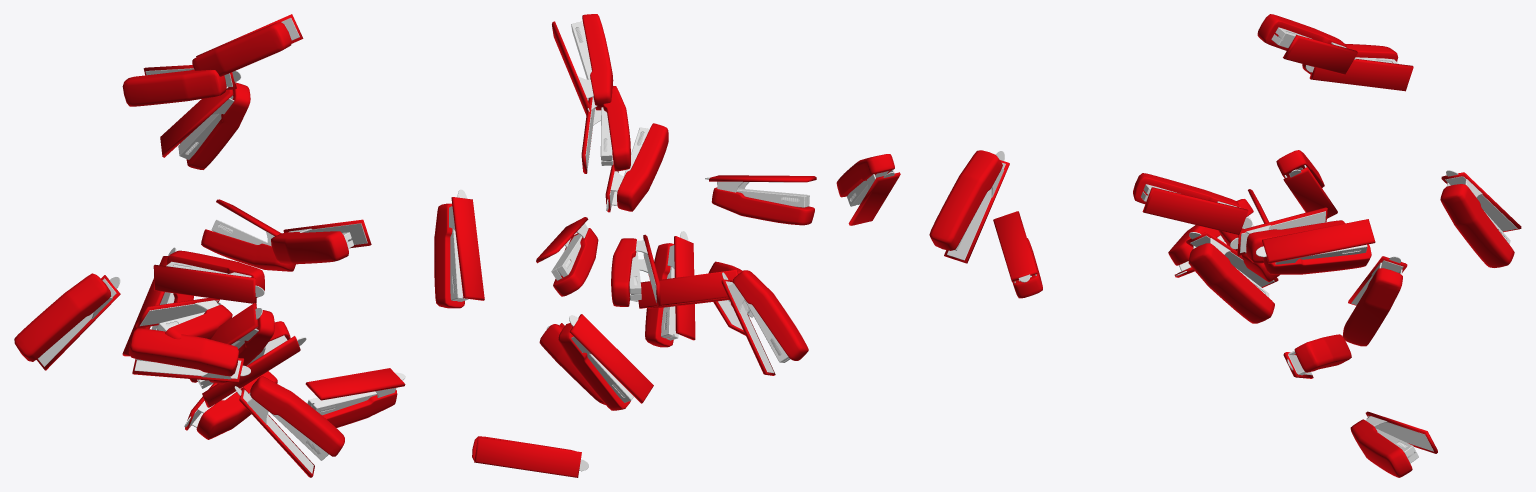
Rendered from staplers2.glb.
The picture shows the model from 3 angles, left to right: view 1: azimuth 30°, elevation 25°; view 2: azimuth 150°, elevation 25°; view 3: azimuth 270°, elevation 25°; orthographic projection. The views are drawn at different scales.
Visible parts, largest first — view 1: 立方体.386, 立方体.001, 立方体.177, 立方体.247, 立方体.494, 立方体.073, 立方体.107, 立方体.282, 立方体.457, 立方体.317, 立方体.352, 立方体.212 (+3 smaller); view 2: 立方体.494, 立方体.422, 立方体.177, 立方体.073, 立方体.457, 立方体.212, 立方体.036, 立方体.282, 立方体.001, 立方体.107, 立方体.317, 立方体.247 (+3 smaller); view 3: 立方体.001, 立方体.317, 立方体.494, 立方体.212, 立方体.282, 立方体.036, 立方体.457, 立方体.422, 立方体.107, 立方体.073, 立方体.247, 立方体.177 (+3 smaller).
Boxes of the visible parts, x1,y1,x2,y2 form: 立方体.386: (129, 328, 250, 382); 立方体.001: (234, 376, 344, 477); 立方体.177: (14, 273, 120, 370); 立方体.247: (153, 250, 264, 303); 立方体.494: (160, 81, 250, 169); 立方体.073: (305, 368, 405, 427); 立方体.107: (122, 65, 240, 106); 立方体.282: (271, 219, 371, 264); 立方体.457: (192, 14, 303, 76); 立方体.317: (201, 199, 295, 271); 立方体.352: (135, 298, 232, 339); 立方体.212: (209, 303, 274, 384); 立方体.494: (434, 189, 484, 308); 立方体.422: (558, 314, 653, 410); 立方体.177: (721, 270, 808, 375); 立方体.073: (705, 175, 816, 225); 立方体.457: (552, 14, 613, 118); 立方体.212: (645, 231, 695, 347); 立方体.036: (472, 436, 588, 477); 立方体.282: (605, 123, 668, 212); 立方体.001: (836, 154, 900, 225); 立方体.107: (581, 86, 630, 173); 立方体.317: (536, 217, 598, 296); 立方体.247: (611, 234, 660, 306); 立方体.001: (929, 150, 1009, 263); 立方体.317: (1256, 219, 1375, 274); 立方体.494: (1440, 170, 1521, 267); 立方体.212: (1186, 231, 1278, 323); 立方体.282: (1133, 173, 1252, 234); 立方体.036: (1350, 411, 1437, 477); 立方体.457: (1257, 14, 1357, 74); 立方体.422: (1342, 256, 1407, 346); 立方体.107: (1302, 44, 1413, 91); 立方体.073: (993, 211, 1042, 298); 立方体.247: (1230, 207, 1345, 263); 立方体.177: (1276, 150, 1337, 218).
Bounding box in the file's own units: 18.4 × 25.43 × 30.75.
